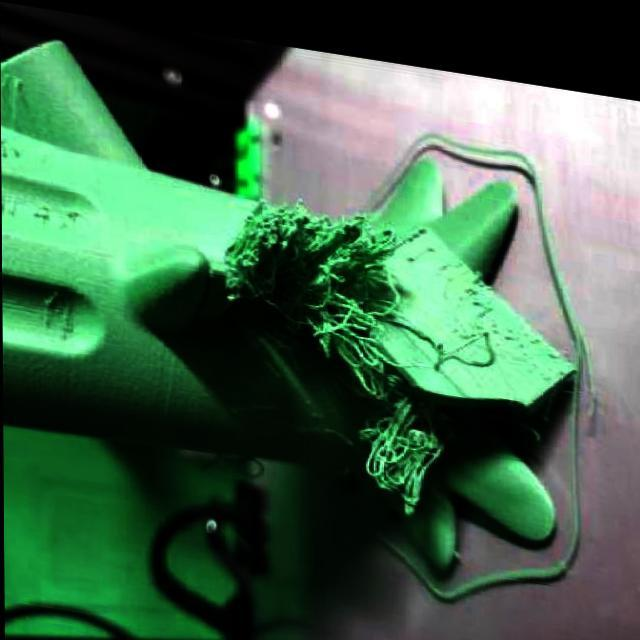spaghetti: (220, 182, 494, 397), (350, 379, 467, 512), (478, 361, 557, 428)
